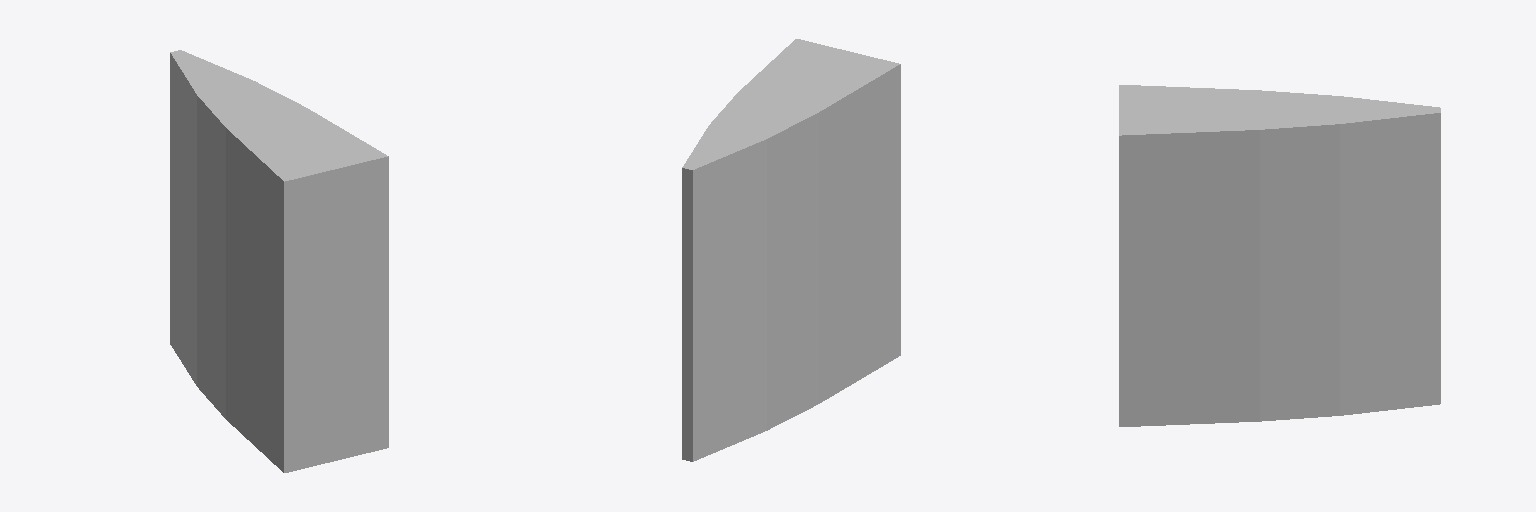
The model's file is spike_corbel_extension.obj.
3 views of the same model, side by side, from view 1: azimuth 30°, elevation 25°; view 2: azimuth 150°, elevation 25°; view 3: azimuth 270°, elevation 25° (orthographic).
Parts seen in each view (by area): view 1: cuboid_selection; view 2: cuboid_selection; view 3: cuboid_selection.
Part boxes in pixels (x1,y1,x2,y2): cuboid_selection: (170, 50, 388, 472); cuboid_selection: (682, 39, 900, 461); cuboid_selection: (1119, 85, 1440, 426).
Size of the model in its own units: 0.375 by 1 by 1.